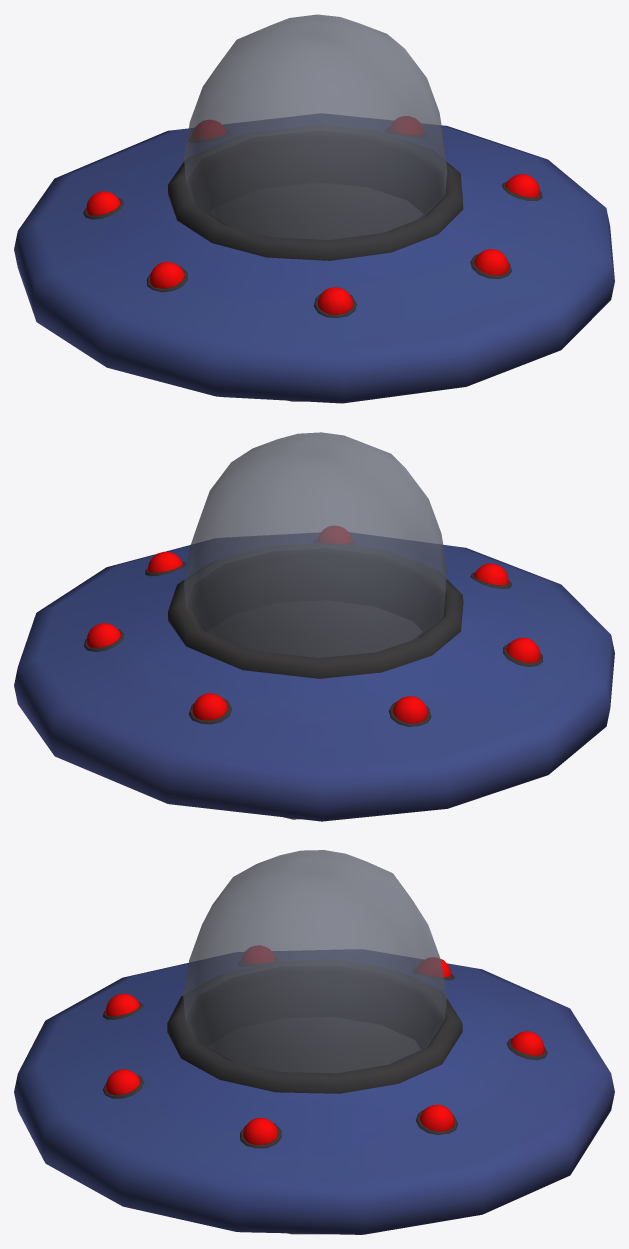
File: UFO.fbx
3 renders of one model, top to bottom at view 1: azimuth 30°, elevation 25°; view 2: azimuth 150°, elevation 25°; view 3: azimuth 270°, elevation 25°, orthographic.
Parts seen in each view (by area): view 1: UFO; view 2: UFO; view 3: UFO.
Boxes of the visible parts, <box> form: UFO: <box>14,14,614,403</box>; UFO: <box>14,432,614,821</box>; UFO: <box>14,850,614,1234</box>.
Size of the model in its own units: 2.1 by 1.28 by 2.12.
